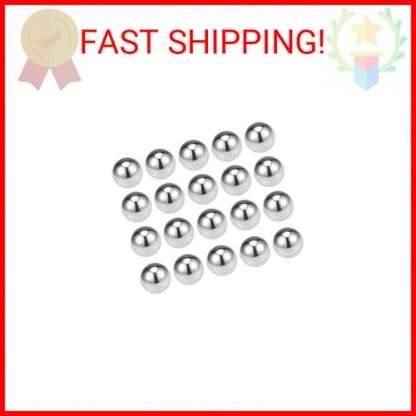ironball: (243, 120, 274, 152), (252, 154, 283, 186), (210, 129, 241, 161), (219, 163, 250, 195), (238, 235, 269, 266), (111, 156, 142, 187), (129, 225, 160, 256), (120, 190, 151, 221), (206, 243, 236, 275), (173, 252, 203, 284), (262, 189, 292, 221), (272, 226, 302, 257), (139, 262, 170, 292), (144, 147, 174, 178), (163, 216, 193, 247), (178, 138, 208, 169), (196, 207, 226, 238), (229, 198, 259, 229), (153, 182, 183, 212), (187, 173, 217, 203)
